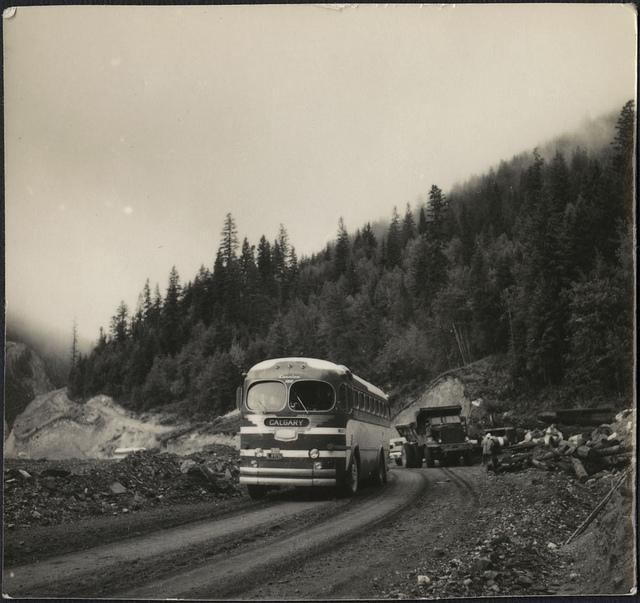bus: (230, 358, 389, 494)
truck: (396, 404, 474, 471)
